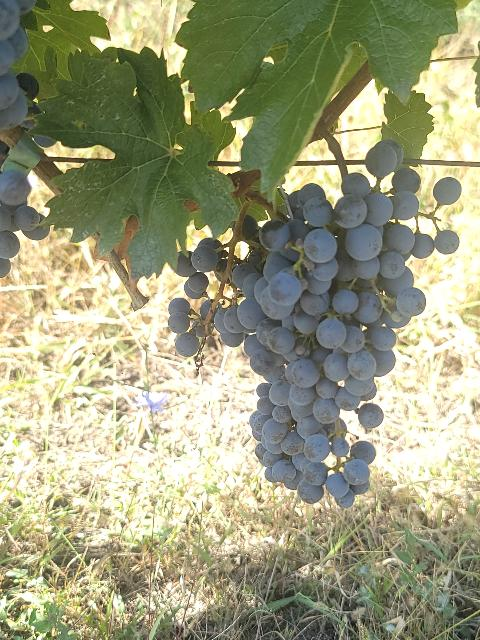grapes: (169, 239, 375, 509), (259, 141, 435, 381)
